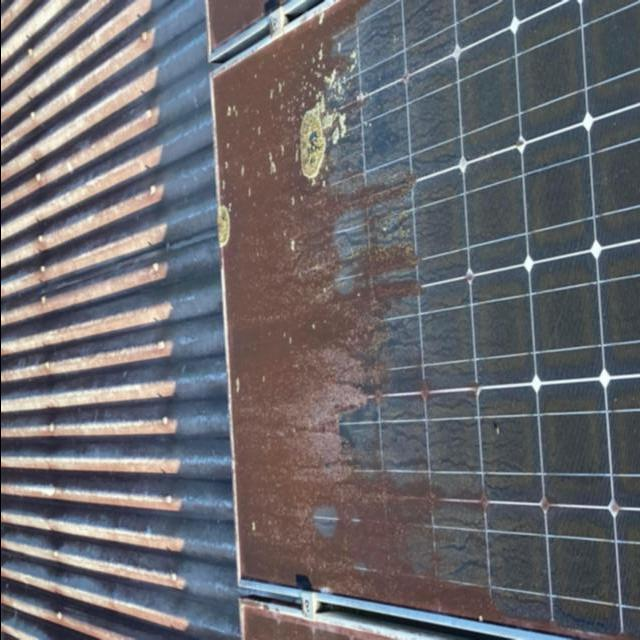soiled: (204, 2, 640, 640)
